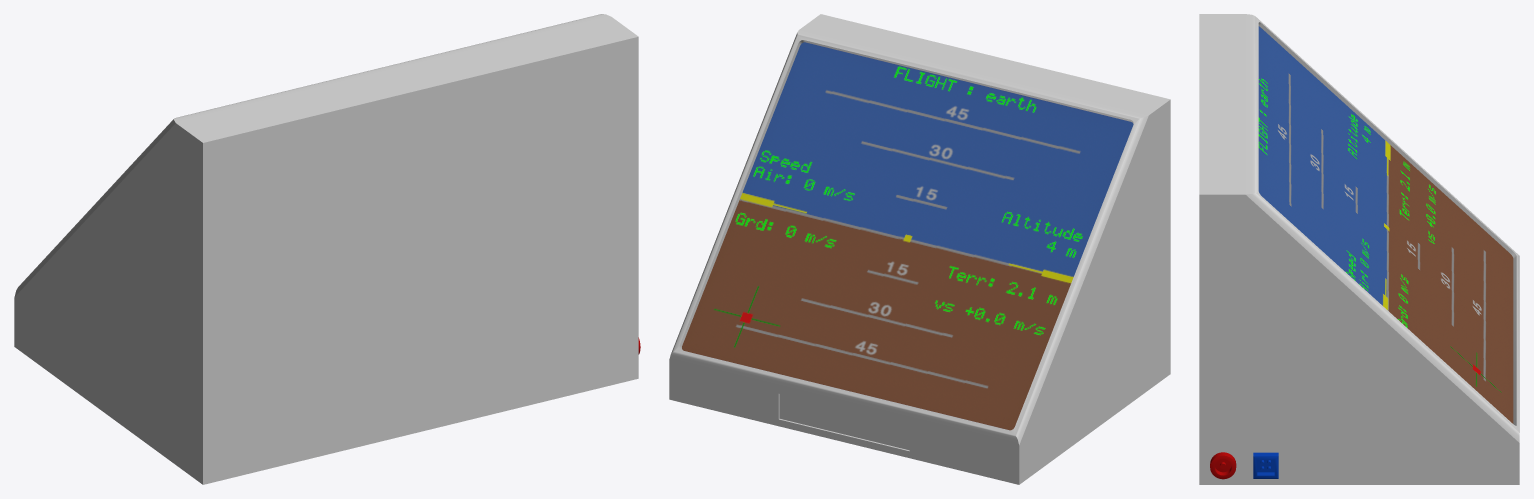
File: NavInstrument.gltf
3 renders of one model, left to right at view 1: azimuth 30°, elevation 25°; view 2: azimuth 150°, elevation 25°; view 3: azimuth 270°, elevation 25°, orthographic. The views are drawn at different scales.
Parts seen in each view (by area): view 1: instrument; view 2: instrument; view 3: instrument.
Part boxes in pixels (x1=…): instrument: x1=14, y1=14, x2=640, y2=484; instrument: x1=669, y1=14, x2=1170, y2=484; instrument: x1=1199, y1=14, x2=1519, y2=484.
Size of the model in its own units: 1.02 by 0.75 by 0.75.
Materials: 4 (1 with a texture image).
